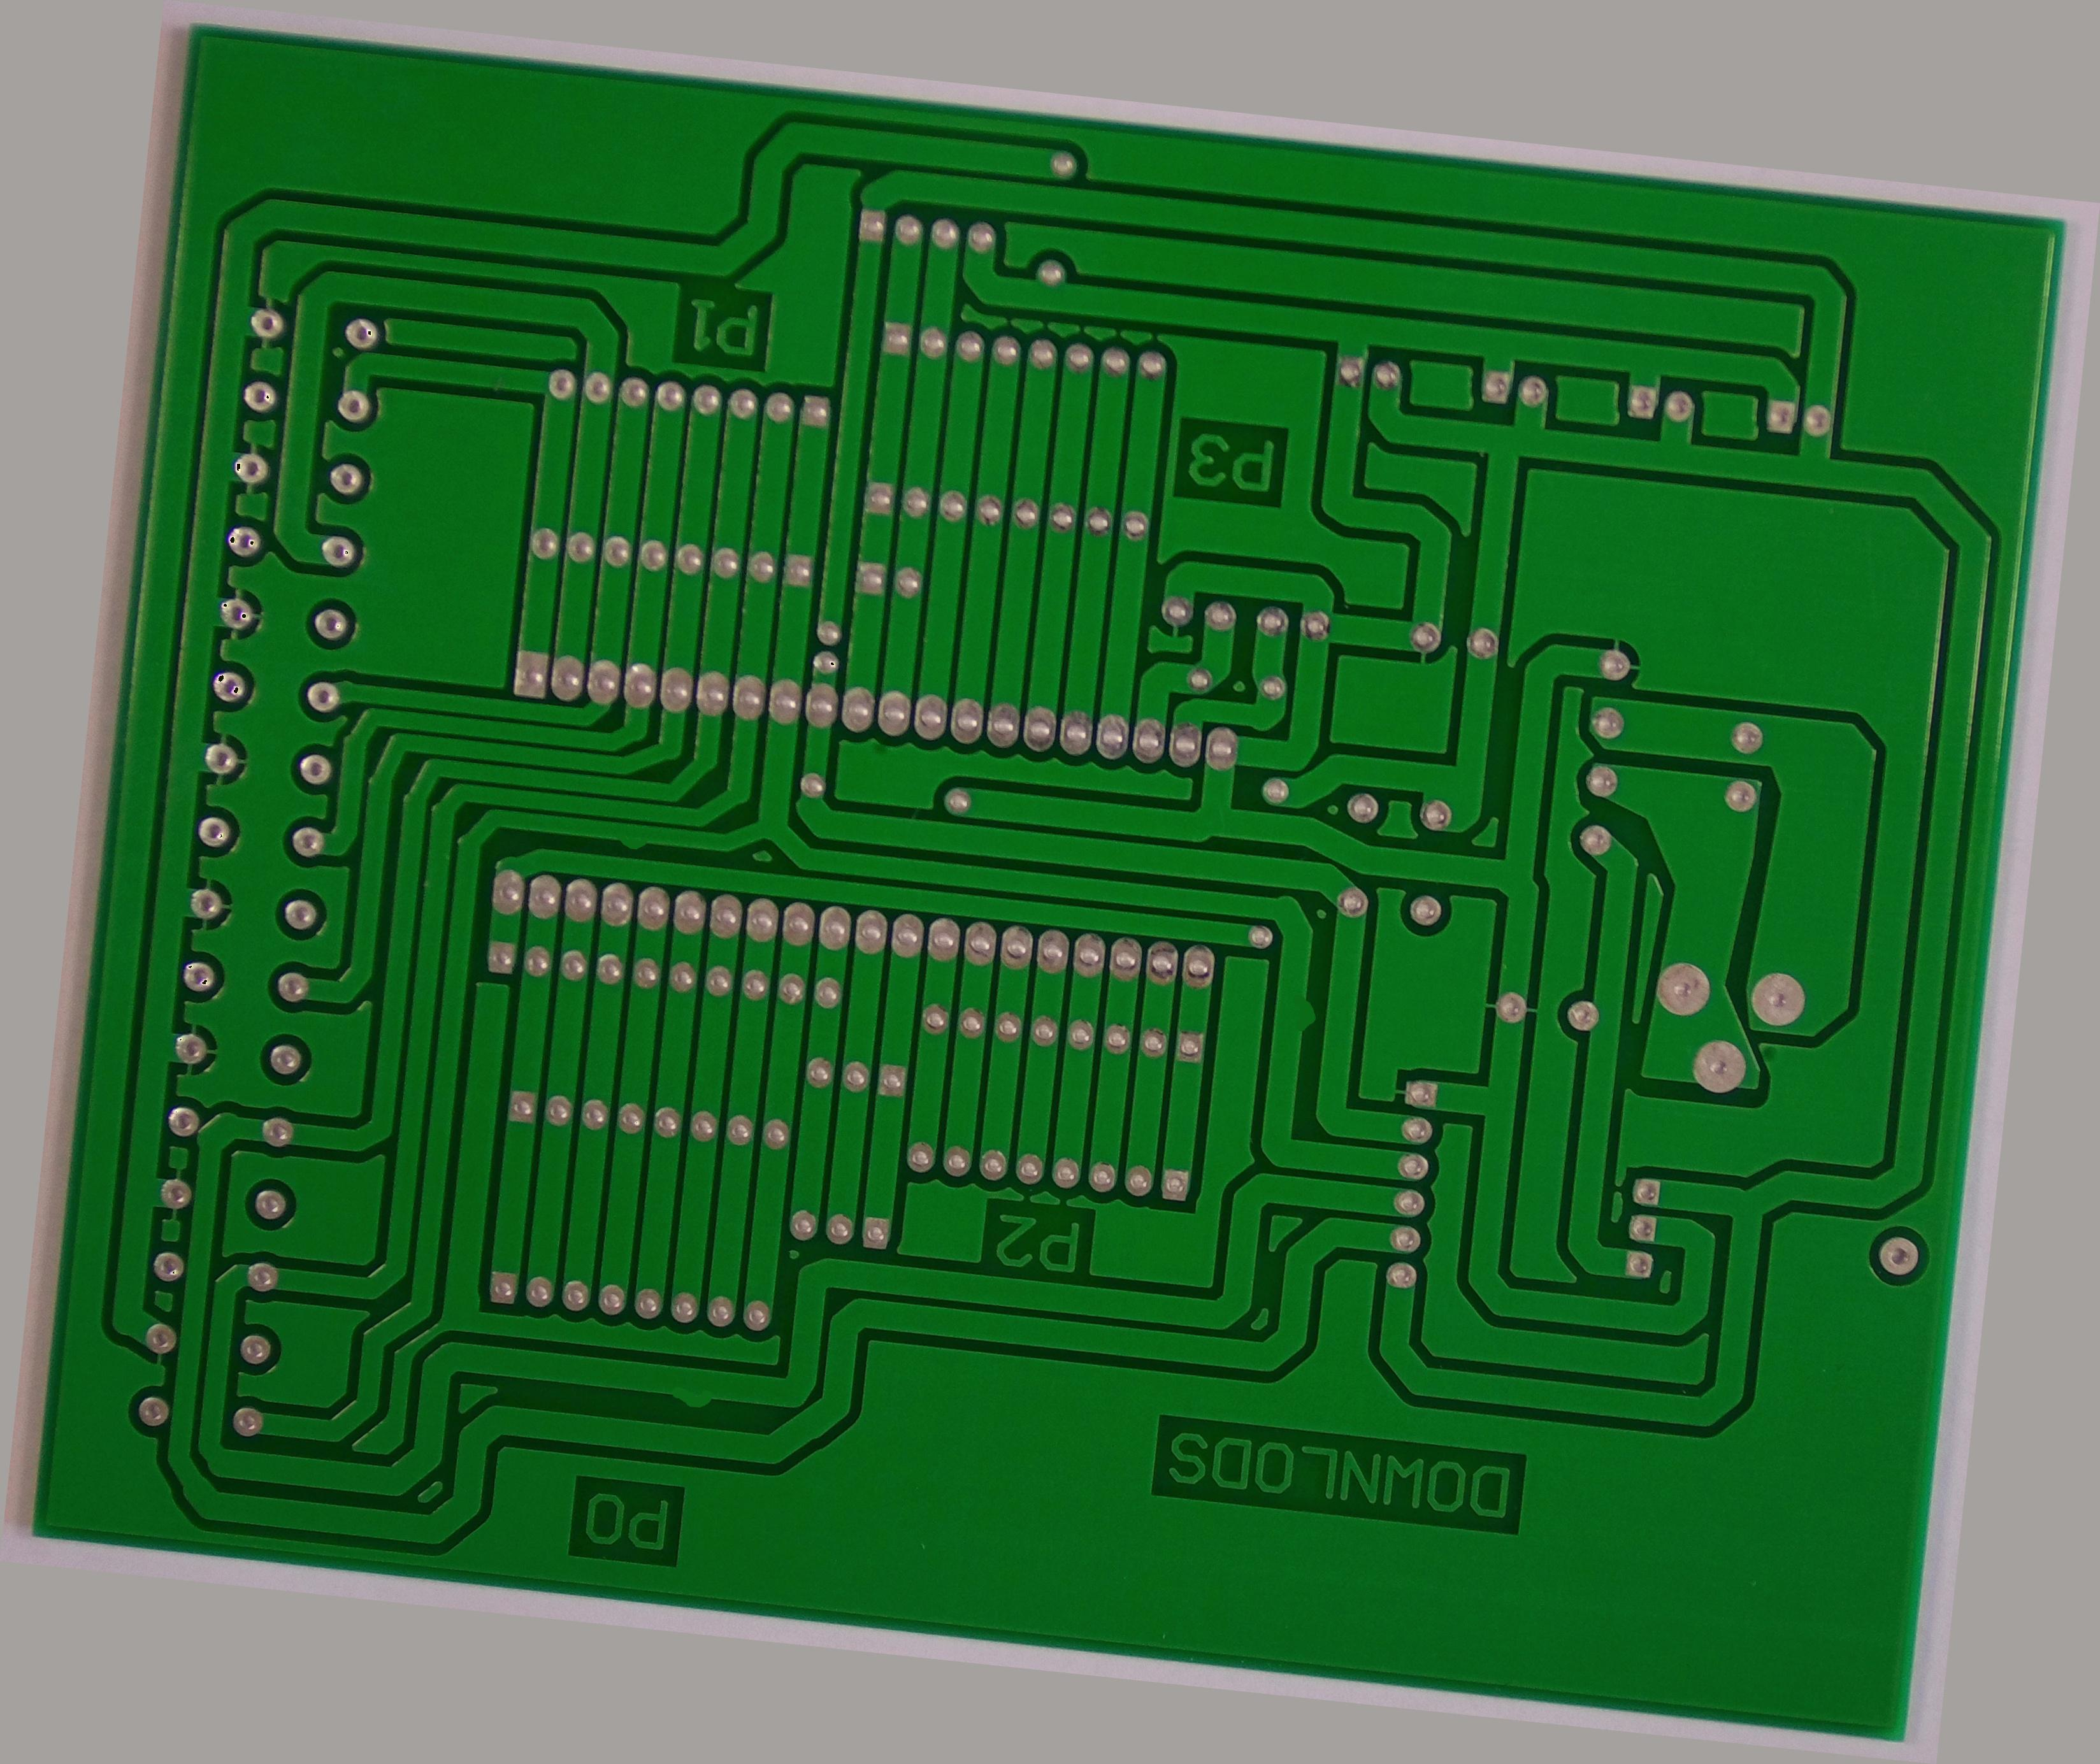spur: (653, 1372, 733, 1421), (1283, 987, 1330, 1045), (605, 824, 660, 863)
